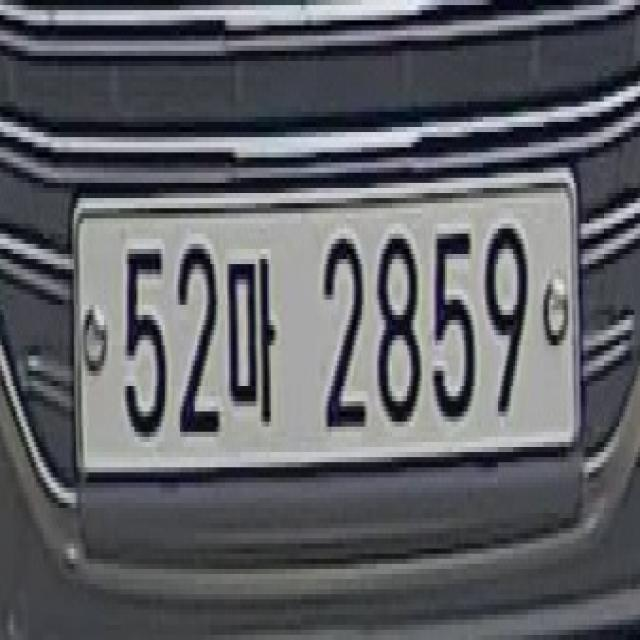2: (316, 230, 368, 447), (172, 233, 222, 457)
5: (120, 230, 170, 462), (430, 216, 479, 428)
8: (375, 232, 423, 440)
9: (483, 215, 533, 430)
license_plate: (66, 162, 584, 476)
ma: (223, 248, 282, 450)
